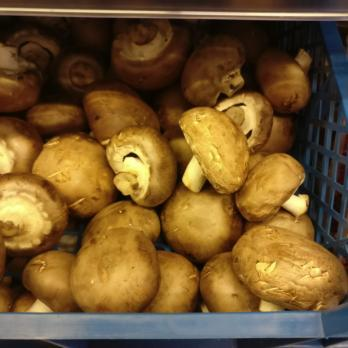Mushroom: (0, 18, 213, 310), (201, 22, 348, 311)
